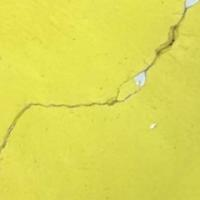crack: (0, 1, 191, 159)
